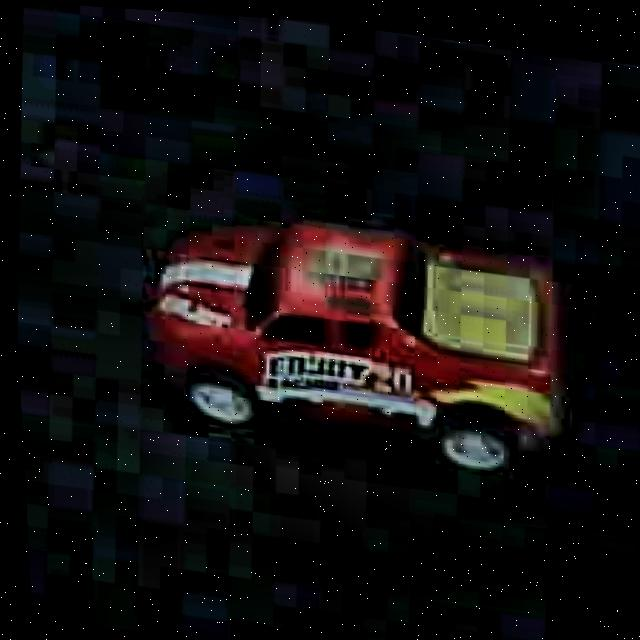car: (126, 187, 590, 492)
